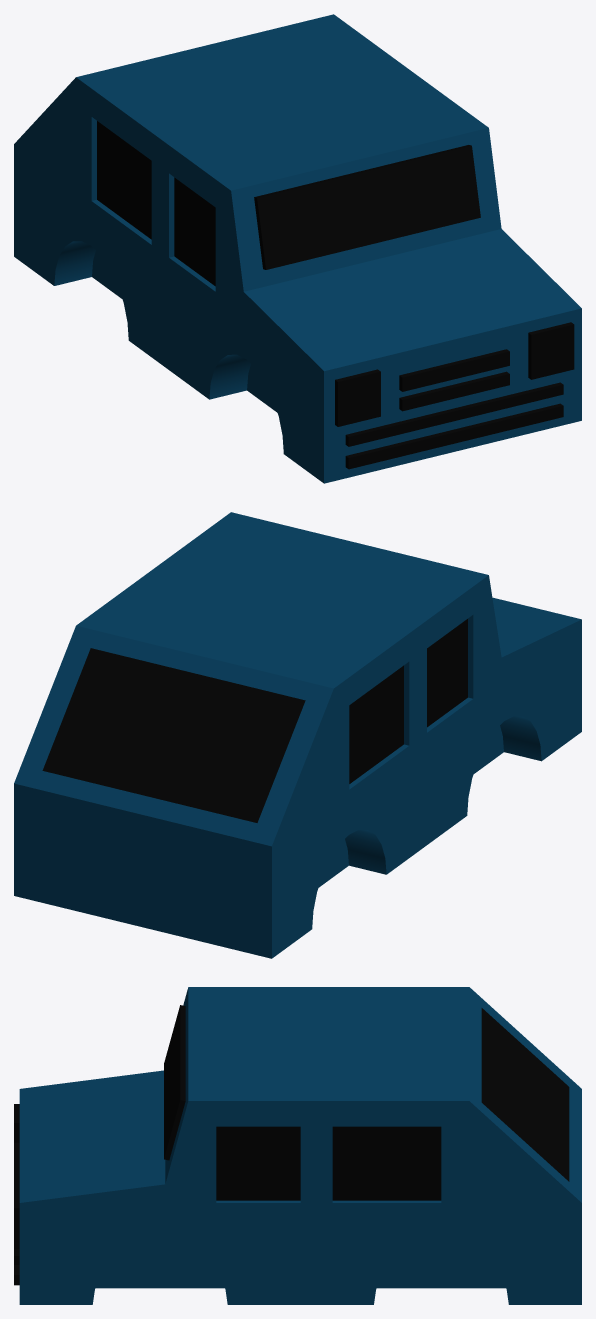
The model's file is car-bob.glb.
3 views of the same model, one above another, from view 1: azimuth 30°, elevation 25°; view 2: azimuth 150°, elevation 25°; view 3: azimuth 270°, elevation 25° (orthographic). The views are drawn at different scales.
Parts seen in each view (by area): view 1: Body4, Body15, Body13, Body14, Body32, Body29, Body10, Body16, Body31, Body30; view 2: Body4, Body6, Body13, Body14; view 3: Body4, Body6, Body7, Body8, Body15.
Part boxes in pixels (box(x1,y1,x2,y2)): Body4: box(14, 14, 581, 483); Body15: box(254, 145, 480, 269); Body13: box(97, 121, 151, 239); Body14: box(174, 177, 215, 286); Body32: box(345, 403, 563, 469); Body29: box(345, 382, 563, 446); Body10: box(528, 322, 574, 379); Body16: box(335, 369, 380, 426); Body31: box(399, 349, 509, 391); Body30: box(399, 371, 509, 411); Body4: box(14, 512, 581, 958); Body6: box(42, 648, 305, 822); Body13: box(349, 665, 403, 783); Body14: box(427, 619, 467, 727); Body4: box(19, 987, 581, 1304); Body6: box(481, 1008, 569, 1181); Body7: box(332, 1126, 441, 1200); Body8: box(216, 1126, 300, 1200); Body15: box(164, 1005, 185, 1160).
Size of the model in its own units: 1.2 by 1.05 by 2.52.
